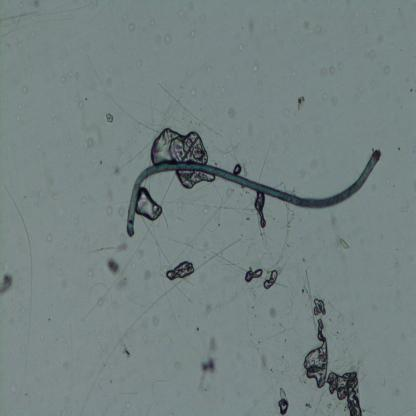Air bubble: (150, 127, 208, 164), (302, 320, 328, 390), (326, 369, 363, 416), (136, 188, 162, 222), (178, 170, 216, 189), (165, 260, 196, 282), (254, 193, 267, 229), (242, 264, 262, 285), (311, 296, 326, 317), (263, 271, 279, 290), (233, 164, 242, 175)
Background material: (205, 182, 255, 226), (274, 214, 303, 271), (201, 234, 237, 268), (161, 79, 193, 109), (296, 265, 316, 309), (84, 121, 103, 152), (299, 14, 325, 36), (200, 356, 215, 389), (315, 61, 339, 81), (90, 292, 112, 313), (104, 188, 116, 220), (276, 386, 289, 414), (154, 28, 170, 48), (0, 274, 14, 294), (113, 277, 130, 292), (106, 258, 121, 274), (260, 350, 269, 375), (207, 337, 218, 356), (84, 266, 96, 282), (114, 242, 130, 253), (297, 95, 306, 113), (186, 83, 196, 99), (201, 62, 212, 76), (121, 346, 132, 360), (113, 164, 123, 179), (328, 95, 340, 107), (247, 62, 260, 73), (268, 306, 278, 320), (143, 269, 153, 282), (340, 239, 350, 251), (228, 106, 237, 119), (304, 398, 313, 411), (104, 113, 114, 124), (118, 206, 127, 218), (45, 233, 53, 245), (151, 318, 161, 327), (76, 98, 83, 110), (127, 23, 134, 34)
Microfibre: (126, 149, 383, 238)
